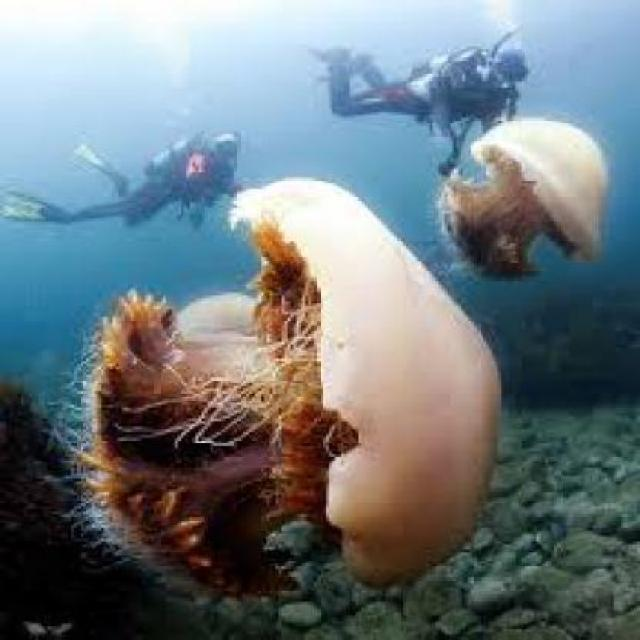Jellyfish: (39, 172, 502, 594), (432, 112, 608, 276)
